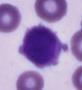L: (18, 25, 63, 68)
